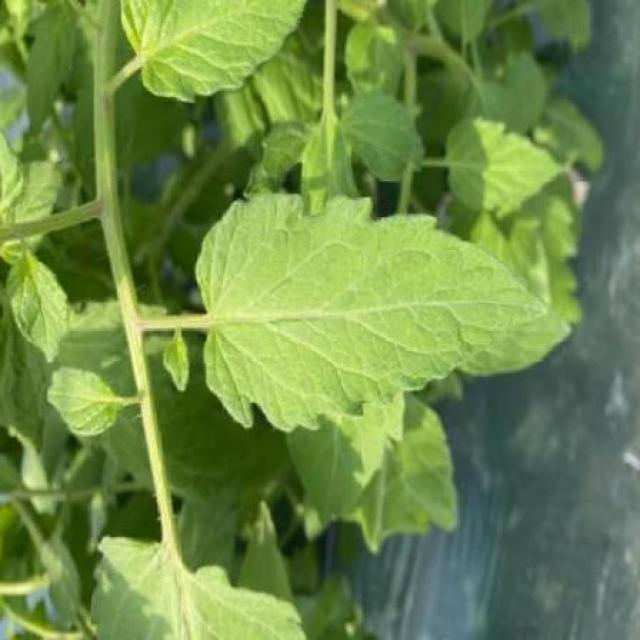Healthy: (196, 192, 548, 431), (8, 251, 69, 363), (46, 366, 118, 436)
